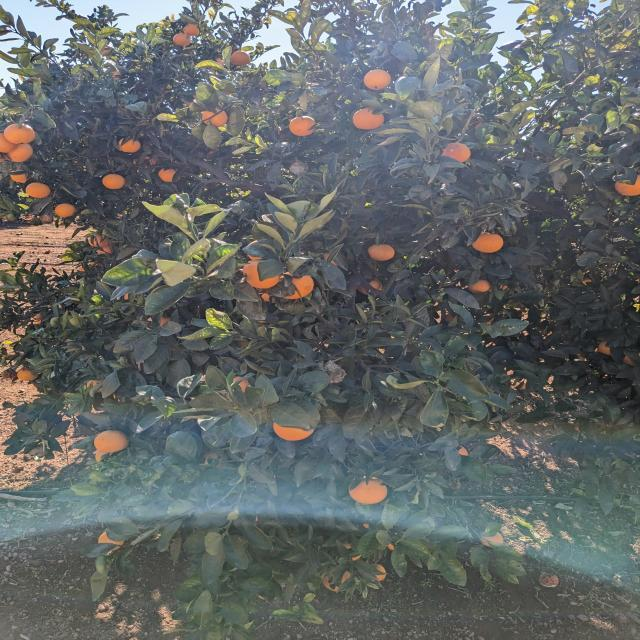Jeruk Sudah Matang: (95, 430, 129, 462), (244, 260, 282, 288), (278, 274, 315, 301), (350, 477, 388, 502), (98, 530, 125, 563), (273, 422, 315, 442), (4, 123, 36, 144), (471, 233, 504, 253), (322, 570, 352, 592), (442, 142, 471, 164), (354, 108, 384, 129), (363, 70, 391, 90), (290, 116, 316, 136), (7, 142, 33, 162), (614, 176, 640, 196), (232, 374, 252, 396), (370, 246, 396, 262), (202, 109, 227, 125), (27, 183, 52, 198), (0, 133, 19, 152), (118, 137, 140, 153), (160, 168, 182, 183), (359, 279, 381, 294), (102, 174, 125, 188), (230, 50, 250, 66), (369, 564, 386, 582), (55, 204, 75, 218), (468, 280, 489, 293), (453, 444, 469, 461), (18, 368, 37, 382), (596, 340, 613, 355), (173, 33, 191, 47), (184, 23, 199, 36), (11, 170, 27, 182), (624, 354, 634, 366), (68, 314, 74, 316)
